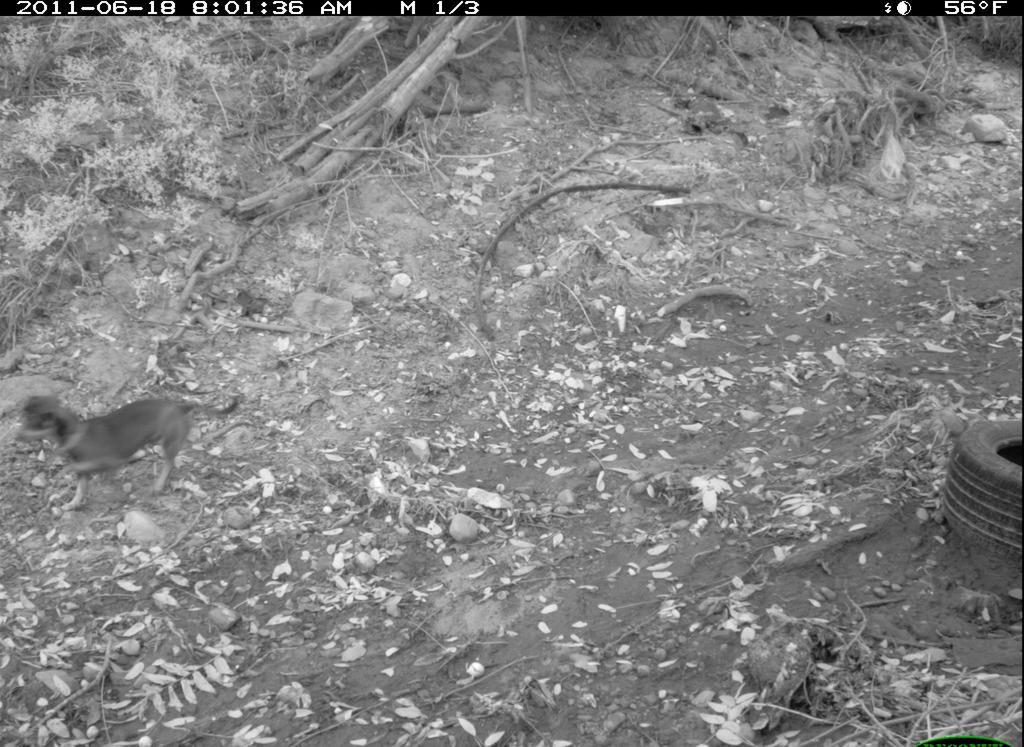dog: (13, 382, 242, 521)
